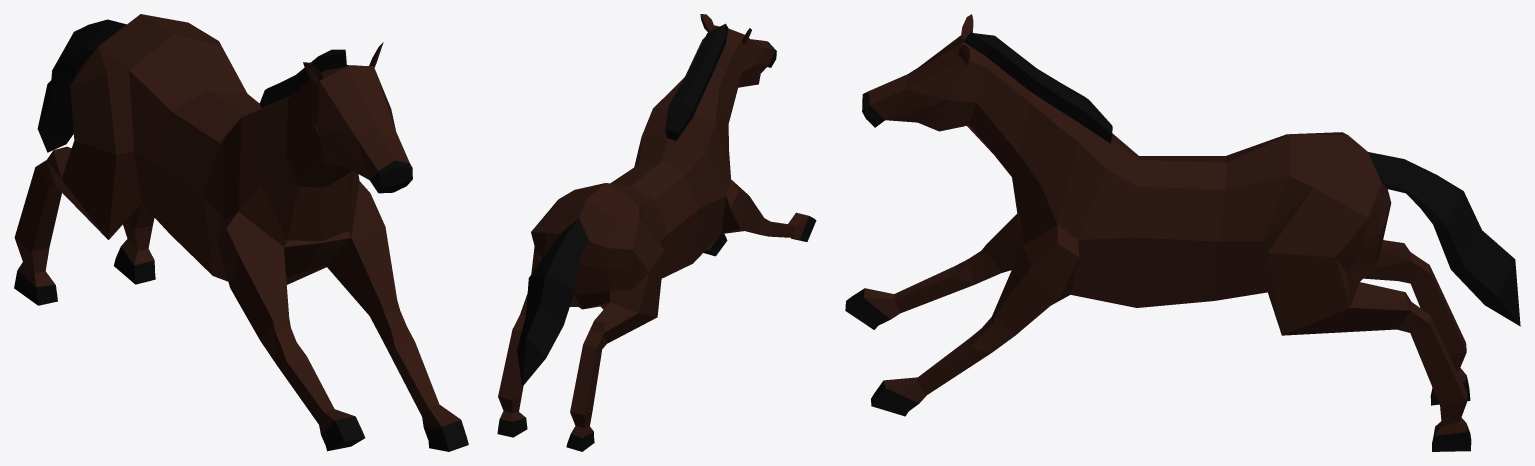
The model's file is Horse_000011.obj.
The picture shows the model from 3 angles, left to right: view 1: azimuth 30°, elevation 25°; view 2: azimuth 150°, elevation 25°; view 3: azimuth 270°, elevation 25°; orthographic projection. The views are drawn at different scales.
Visible parts, largest first — view 1: Horse_Cylinder; view 2: Horse_Cylinder; view 3: Horse_Cylinder.
Part boxes in pixels (box(x1,y1,x2,y2)): Horse_Cylinder: box(14, 14, 468, 451); Horse_Cylinder: box(497, 14, 816, 451); Horse_Cylinder: box(845, 14, 1520, 451).
Bounding box in the file's own units: 2.56 × 6.44 × 9.99.
